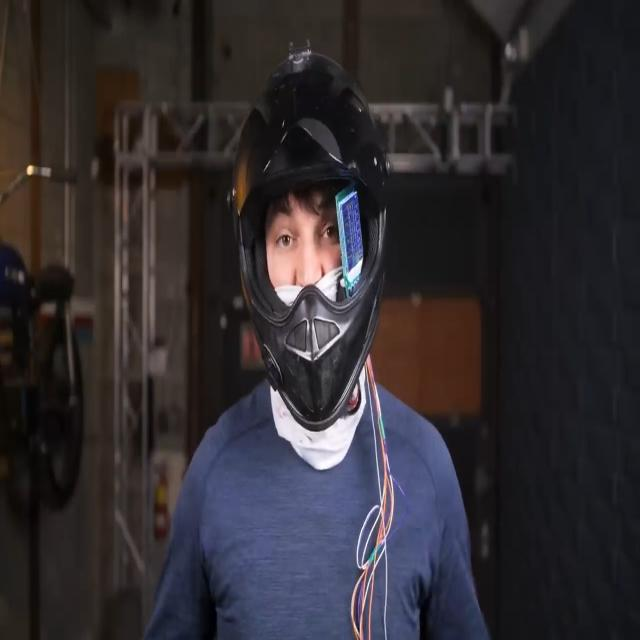Helmet_Wearer: (224, 48, 385, 437)
Person: (157, 48, 469, 640)
